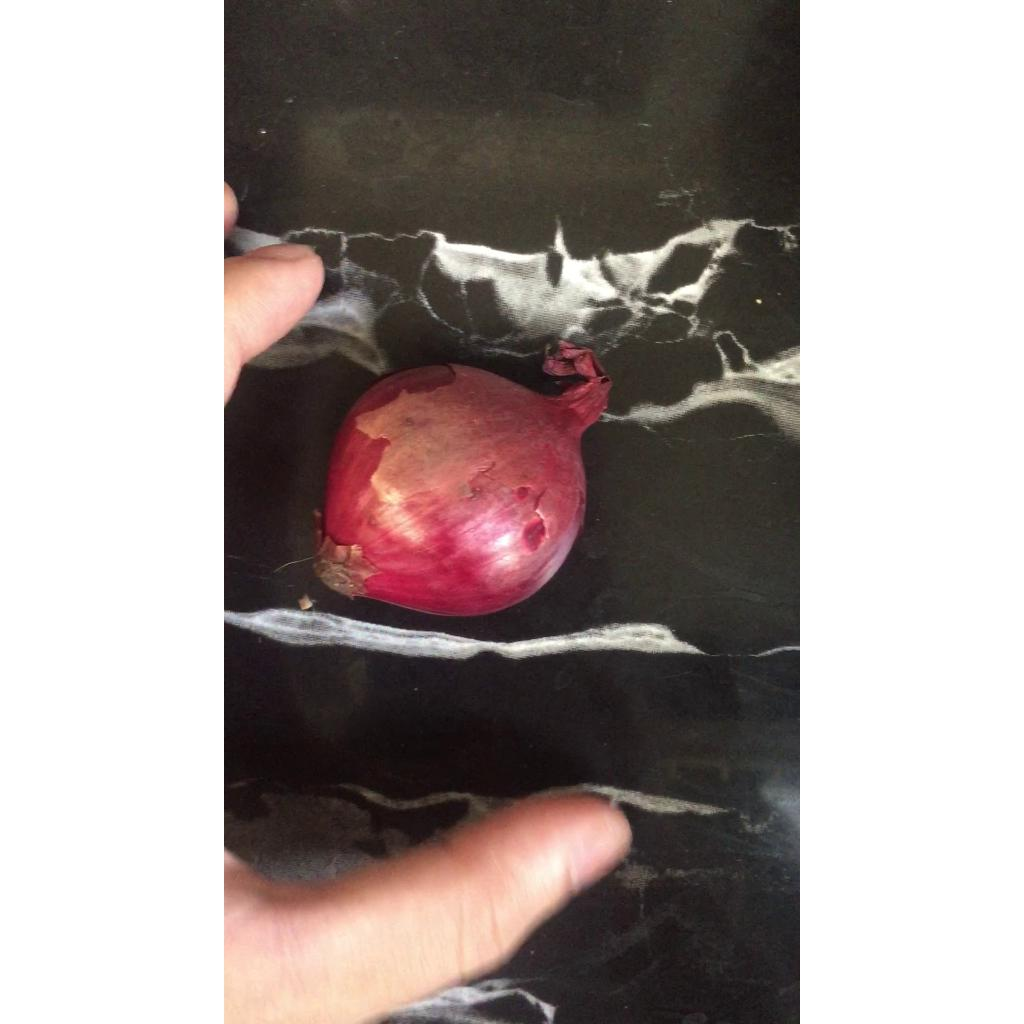Onion: (312, 341, 611, 616)
